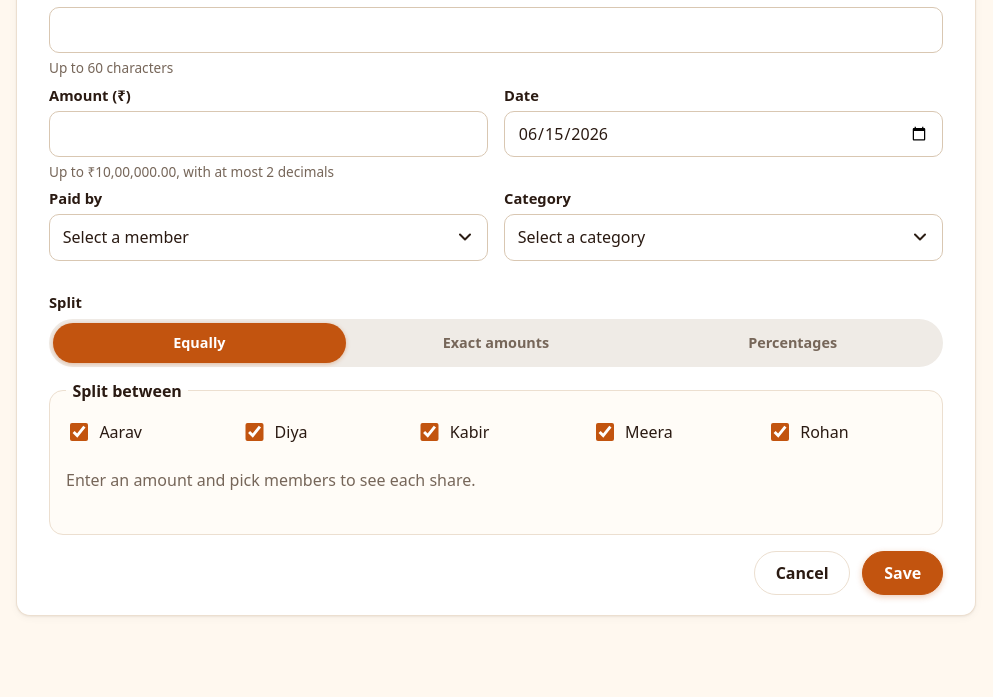
Test case: ExpenseForm › live breakdown › shows the exact-amount counter and flips to over
Type "100" into the field labelled "Amount (₹)" at (268,134), box [49,110,488,157]
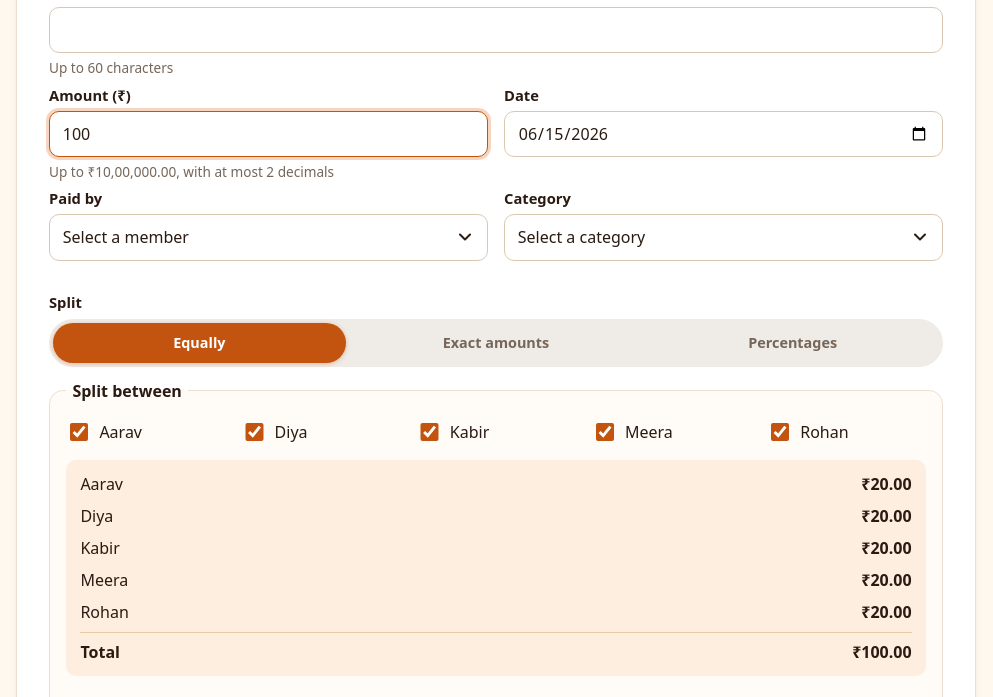
Click the radio button labelled "Exact amounts" at (496,343), box [443,333,549,352]
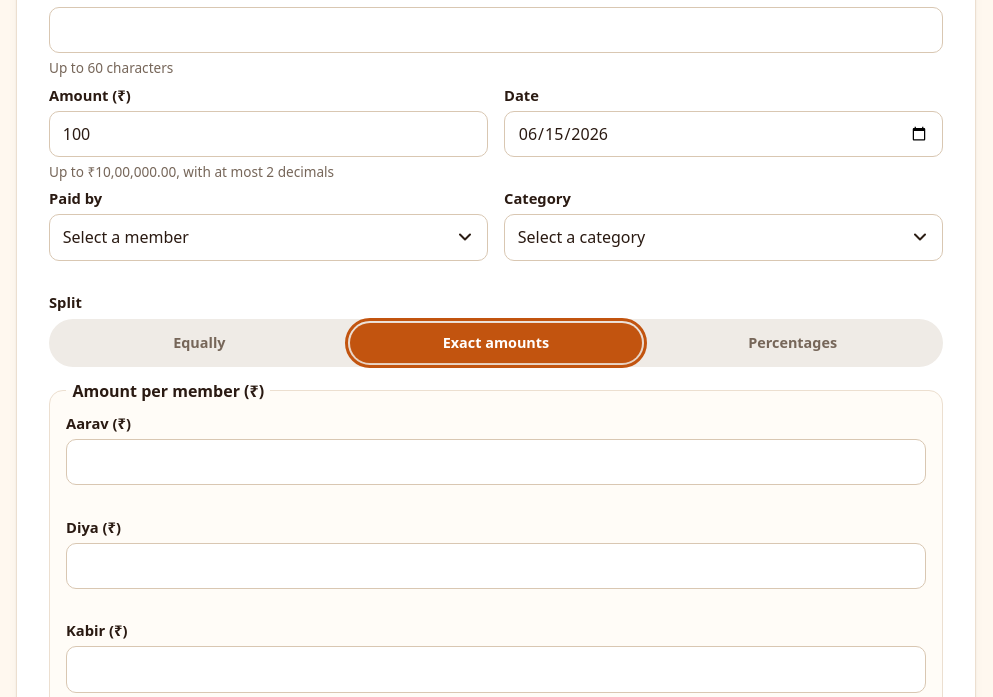
Type "87.50" into the field labelled "Aarav (₹)" at (496,462), box [66,439,926,486]
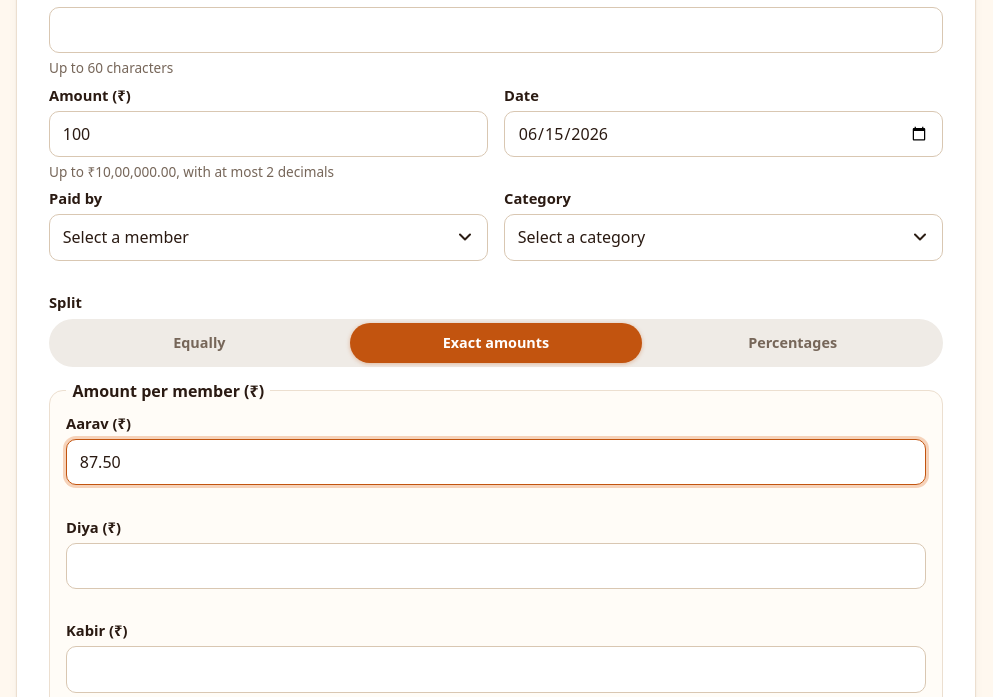
Type "20" into the field labelled "Diya (₹)" at (496,566), box [66,543,926,589]
(page scrolled)
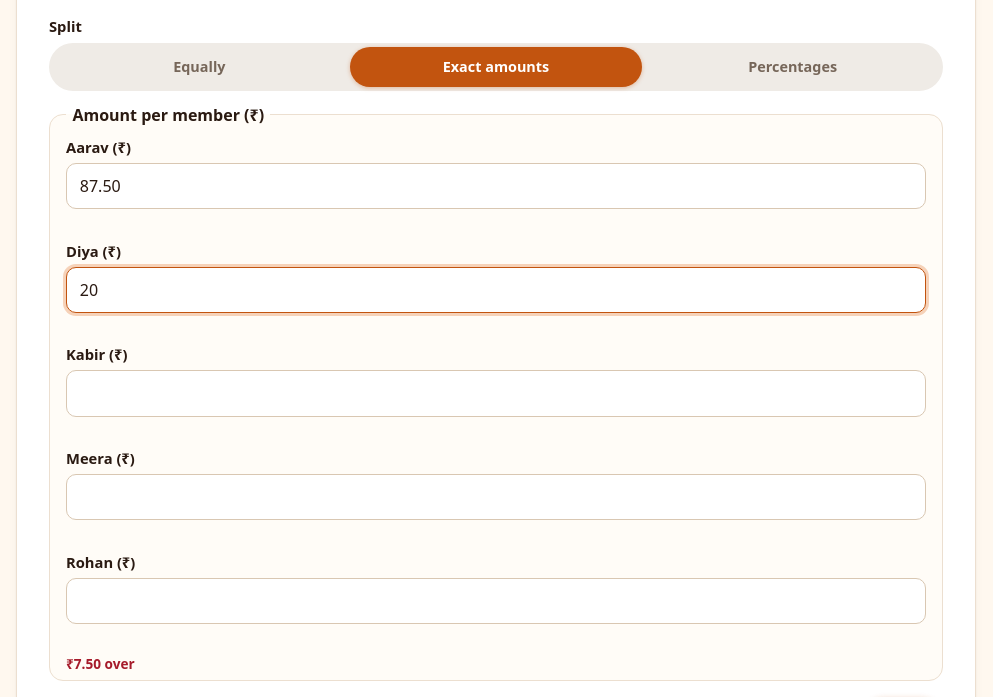
Expected: the message reads "₹7.50 over", [66,654,135,673]
